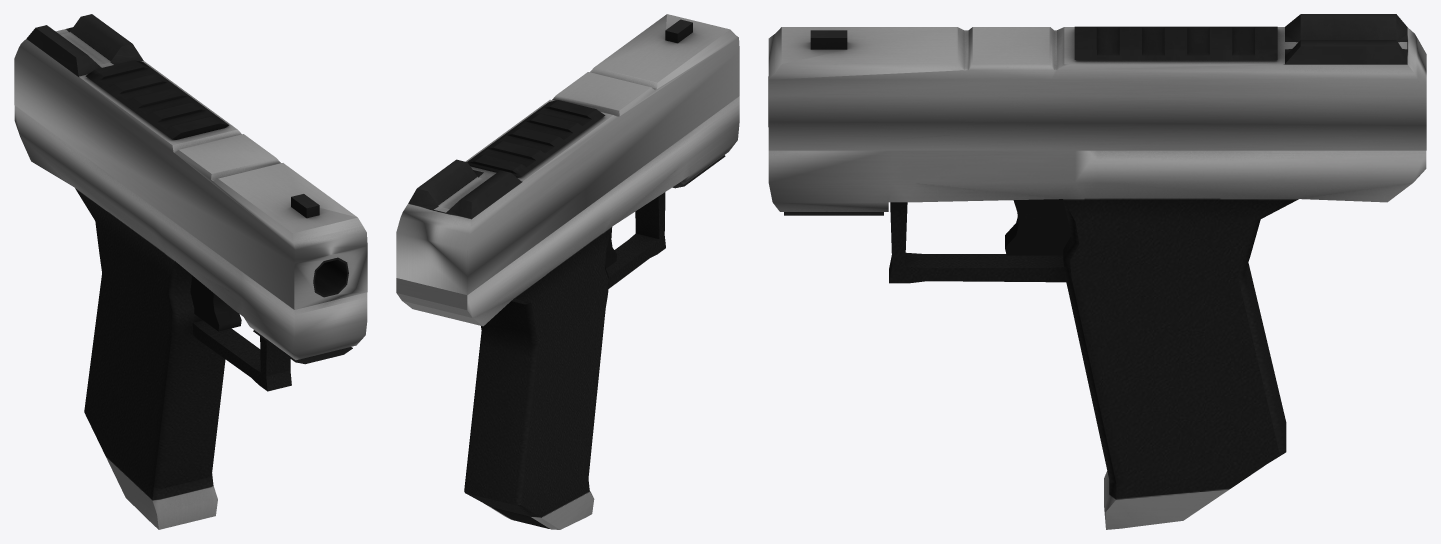
The model's file is Pistol.fbx.
The picture shows the model from 3 angles, left to right: view 1: azimuth 30°, elevation 25°; view 2: azimuth 150°, elevation 25°; view 3: azimuth 270°, elevation 25°; orthographic projection. The views are drawn at different scales.
Parts seen in each view (by area): view 1: Pistol_Body, Pistol_slide, Pistol_Trigger; view 2: Pistol_Body, Pistol_slide; view 3: Pistol_Body, Pistol_slide, Pistol_Trigger.
Part boxes in pixels (left/top/right/bottom): Pistol_Body: left=14, top=105, right=367, bottom=529; Pistol_slide: left=14, top=14, right=367, bottom=309; Pistol_Trigger: left=190, top=275, right=241, bottom=331; Pistol_Body: left=396, top=96, right=739, bottom=529; Pistol_slide: left=396, top=14, right=739, bottom=295; Pistol_Body: left=768, top=76, right=1426, bottom=529; Pistol_slide: left=768, top=14, right=1426, bottom=150; Pistol_Trigger: left=1005, top=199, right=1070, bottom=255.
Bounding box in the file's own units: 0.7677 × 4.12 × 5.08.
